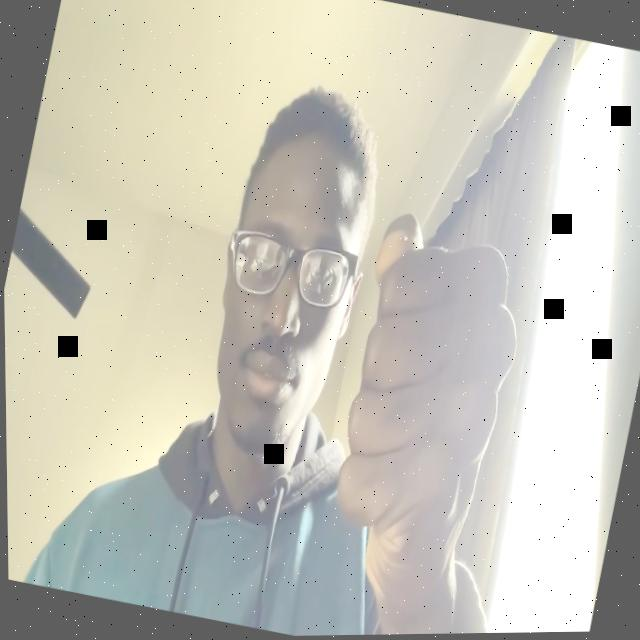Rock: (301, 206, 542, 637)
